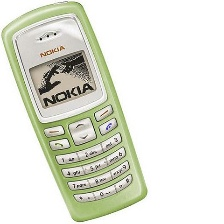phone: (0, 0, 149, 224)
